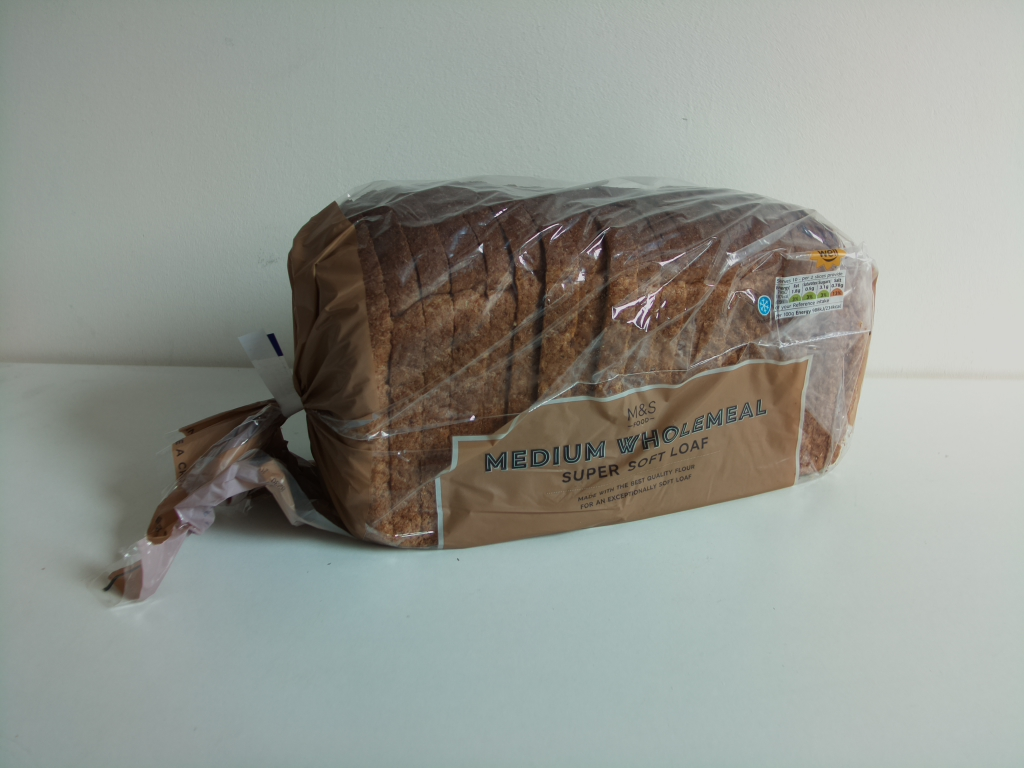bread: (96, 173, 882, 614)
